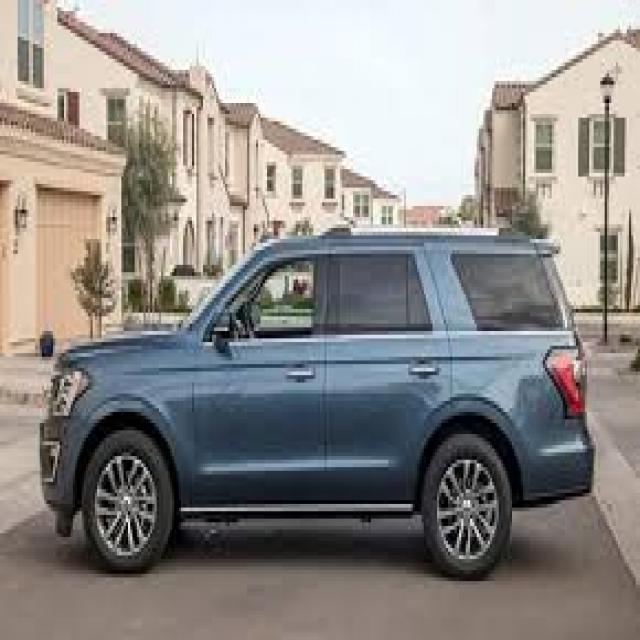Car: (37, 229, 594, 569)
